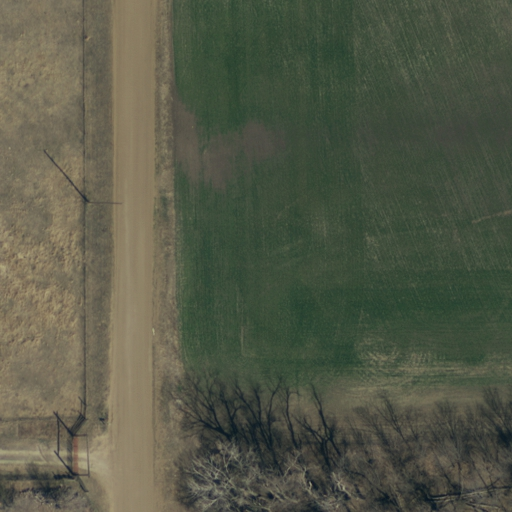DT: (79, 186, 128, 215)
